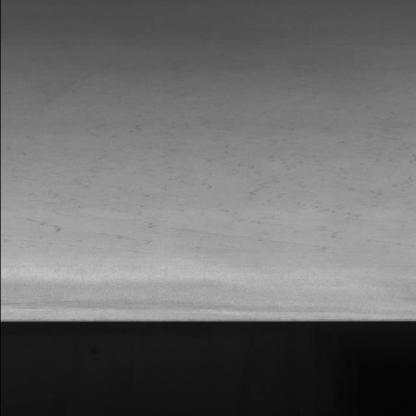silk_spot: (6, 158, 326, 248)
